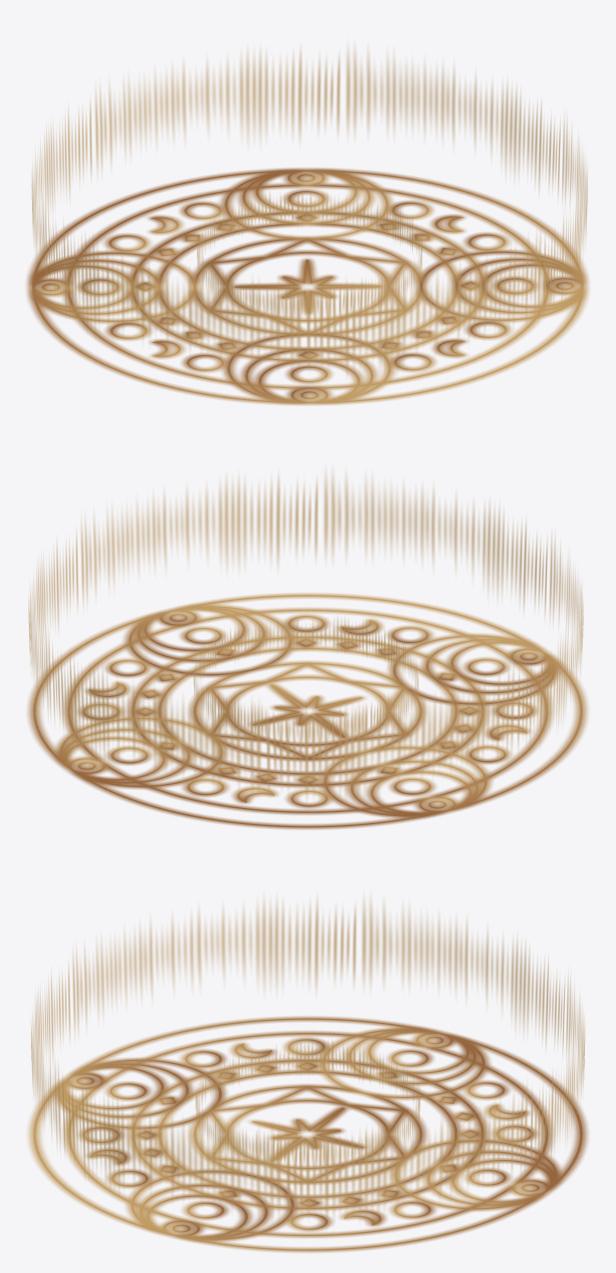
Rendered from MagicCircle.gltf.
3 renders of one model, top to bottom at view 1: azimuth 30°, elevation 25°; view 2: azimuth 150°, elevation 25°; view 3: azimuth 270°, elevation 25°, orthographic.
Visible parts, largest first — view 1: FoM_ARFilter_MagicCircle_001, FoM_ARFilter_MagicEffect_001; view 2: FoM_ARFilter_MagicCircle_001, FoM_ARFilter_MagicEffect_001; view 3: FoM_ARFilter_MagicCircle_001, FoM_ARFilter_MagicEffect_001.
Boxes of the visible parts, <box> form: FoM_ARFilter_MagicCircle_001: <box>26,168,589,405</box>; FoM_ARFilter_MagicEffect_001: <box>31,49,587,372</box>; FoM_ARFilter_MagicCircle_001: <box>27,593,588,829</box>; FoM_ARFilter_MagicEffect_001: <box>28,473,583,797</box>; FoM_ARFilter_MagicCircle_001: <box>27,1016,588,1252</box>; FoM_ARFilter_MagicEffect_001: <box>31,899,585,1221</box>.
Bounding box in the file's own units: 1.69 × 0.5091 × 1.69.
2 materials, 2 textured.
